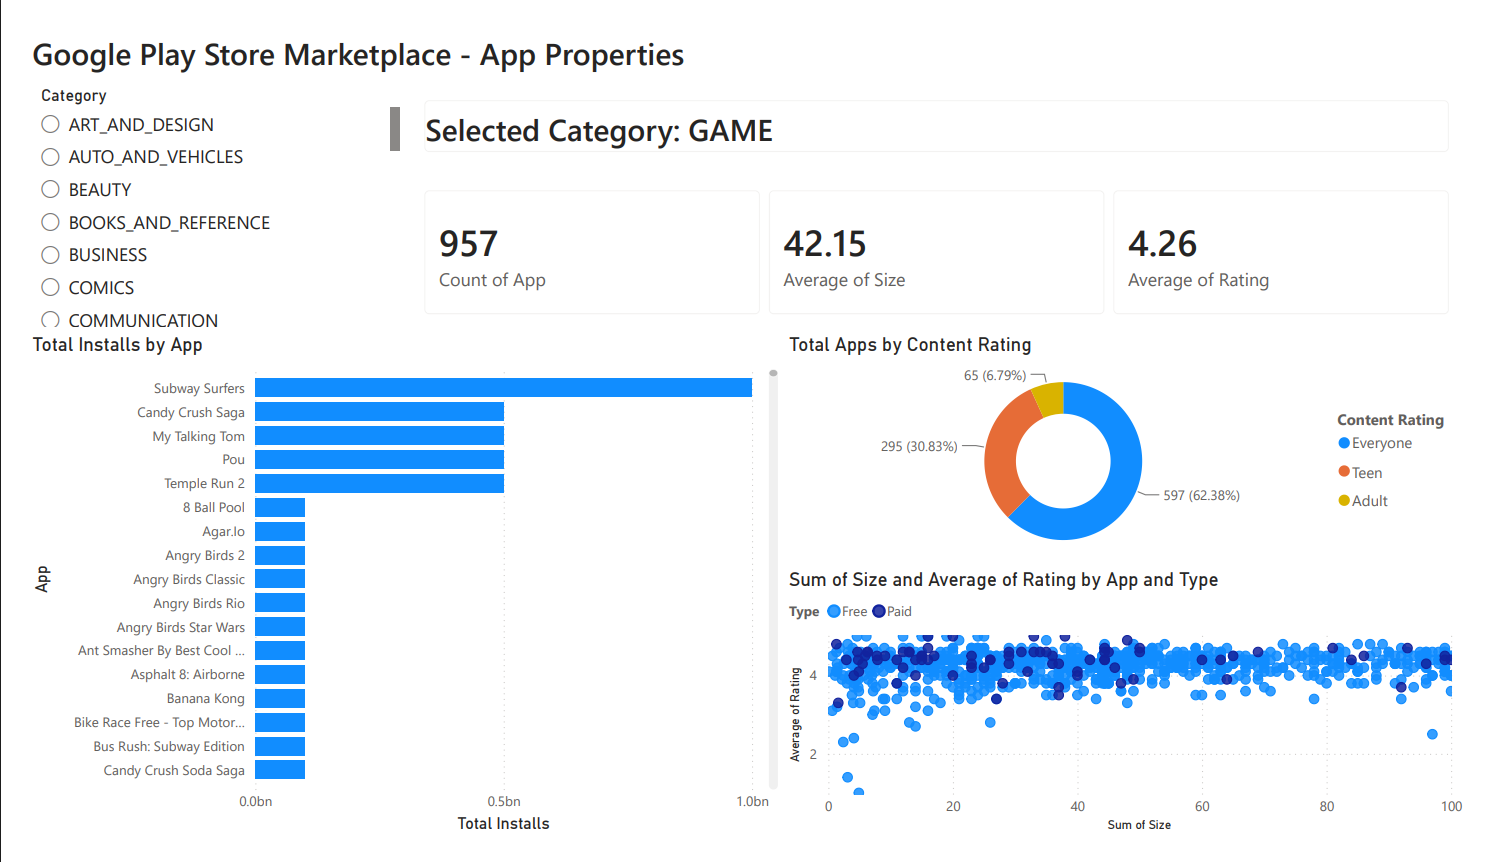

The dashboard page shown, as its layout file describes it:
{"tool":"powerbi","page":{"name":"App Properties","canvas":[1280,720],"ordinal":1},"visuals":[{"type":"textbox","box":[0,0,1280,48],"z":0},{"type":"slicer","fields":{"Values":["Play Store Data.Category"]},"box":[0,48,336,224],"z":1000},{"type":"cardVisual","fields":{"Data":["Count(Play Store Data.App)","Avg(Play Store Data.Size)","Avg(Play Store Data.Rating)"]},"box":[336,128,944,144],"z":2000},{"type":"donutChart","fields":{"Category":["Play Store Data.Content Rating"],"Y":["Play Store Data.Total Apps"]},"box":[672,272,608,208],"z":3000},{"type":"barChart","fields":{"Category":["Play Store Data.App"],"Y":["Play Store Data.Total Installs"]},"box":[0,272,672,448],"z":3001},{"type":"scatterChart","fields":{"Category":["Play Store Data.App"],"X":["Sum(Play Store Data.Size)"],"Y":["Avg(Play Store Data.Rating)"],"Series":["Play Store Data.Type"]},"box":[672,480,608,240],"z":3002},{"type":"cardVisual","fields":{"Data":["Play Store Data.Selected Category"]},"box":[336,48,944,80],"z":3003}]}

Visuals, with their boxes in screenshot pixels (x1, y1, x2, y2), scaled from the page's 1280x720 canvas onto the 1493x862 screenshot:
textbox: [x1=0, y1=0, x2=1492, y2=57]
slicer - Play Store Data.Category: [x1=0, y1=57, x2=392, y2=326]
cardVisual - Count(Play Store Data.App) x Avg(Play Store Data.Size): [x1=392, y1=153, x2=1492, y2=326]
donutChart - Play Store Data.Content Rating x Play Store Data.Total Apps: [x1=784, y1=326, x2=1492, y2=575]
barChart - Play Store Data.App x Play Store Data.Total Installs: [x1=0, y1=326, x2=784, y2=861]
scatterChart - Play Store Data.App x Sum(Play Store Data.Size): [x1=784, y1=575, x2=1492, y2=861]
cardVisual - Play Store Data.Selected Category: [x1=392, y1=57, x2=1492, y2=153]
